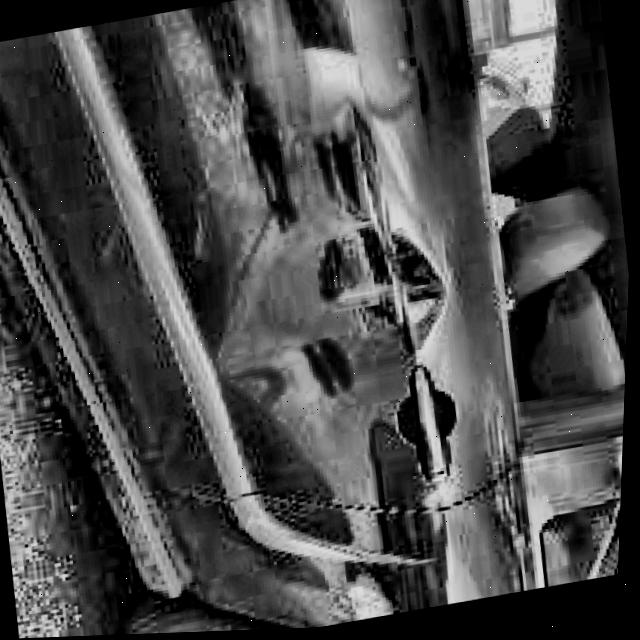door_dent: (161, 43, 399, 227), (209, 236, 442, 409)
